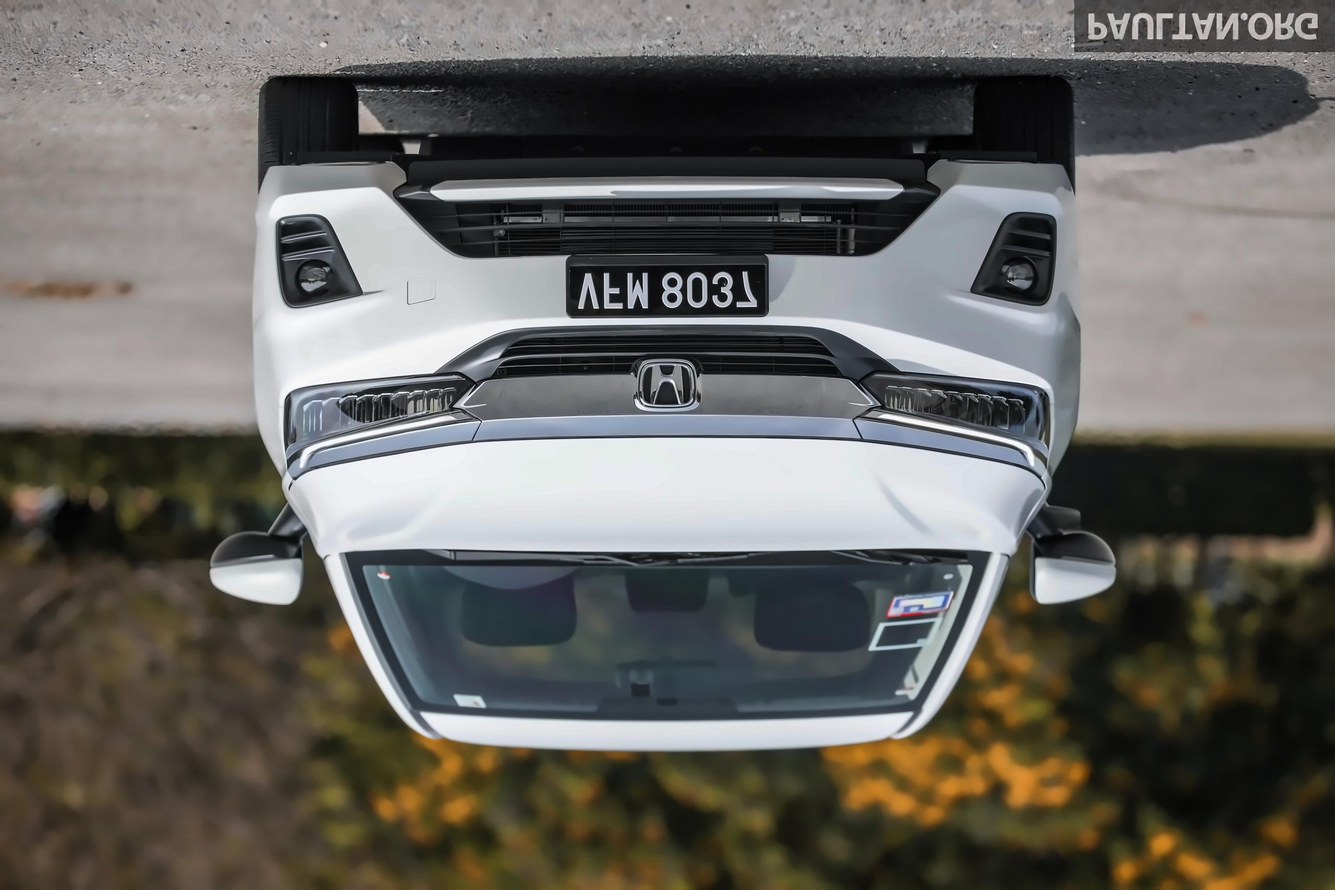Car hood: (284, 430, 1043, 568)
Front bumper: (236, 146, 1093, 427)
Headlight - -L-: (277, 369, 479, 457)
Headlight - -R-: (858, 372, 1054, 477)
Side mirror - -L-: (204, 501, 314, 612)
Side mirror - -R-: (1029, 494, 1117, 616)
